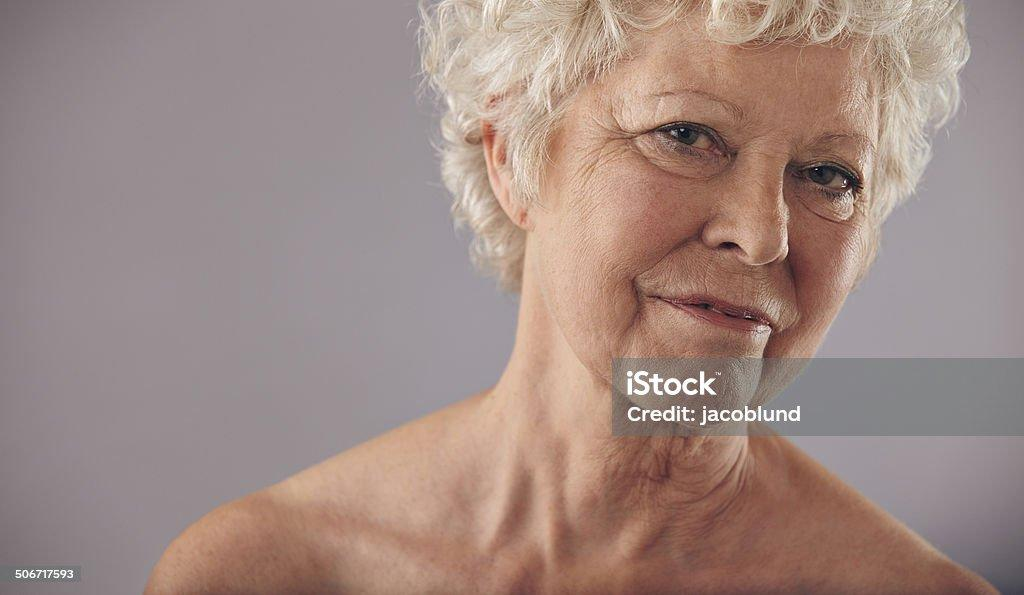Dry-Skin: (582, 265, 667, 379), (648, 171, 736, 243), (762, 66, 860, 123), (575, 97, 643, 177), (763, 200, 827, 273), (772, 289, 834, 352)
